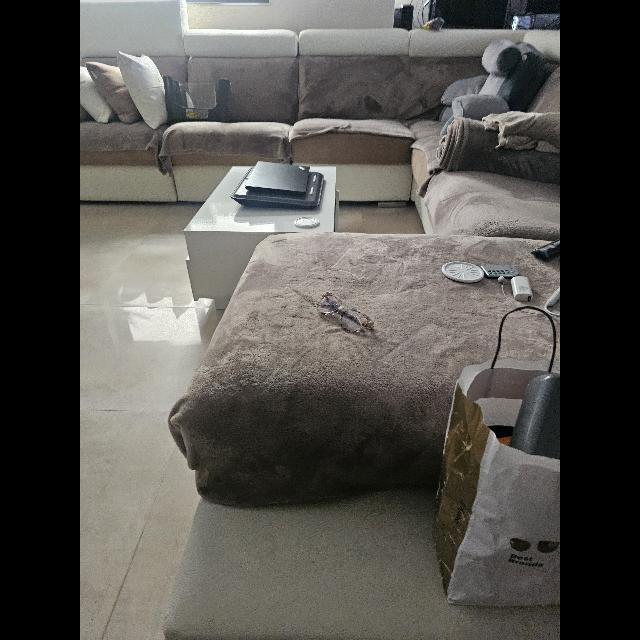glasses: (314, 292, 374, 332)
